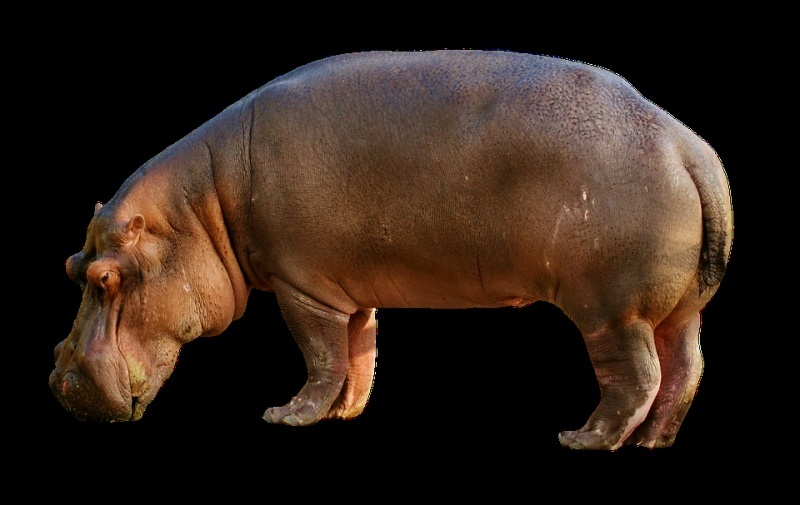hipopotamo: (37, 45, 738, 461)
